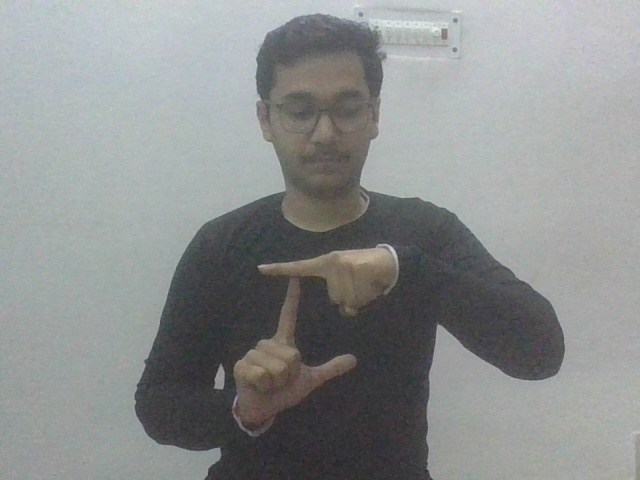J: (224, 244, 394, 425)
